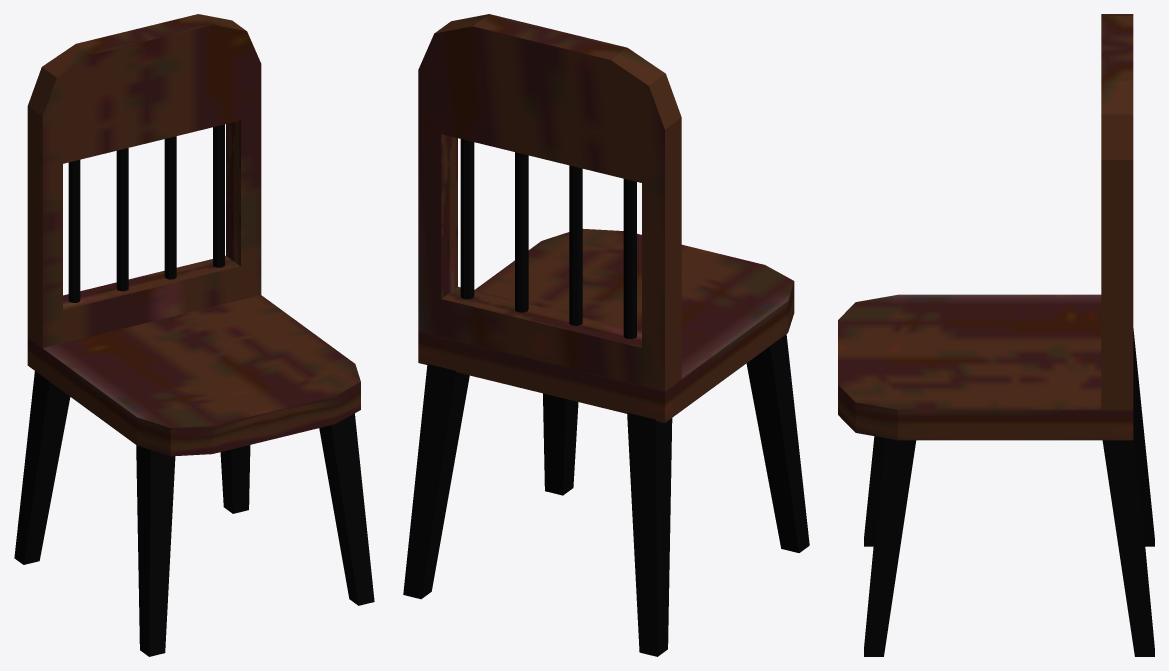
The model's file is KitchenChair.fbx.
The picture shows the model from 3 angles, left to right: view 1: azimuth 30°, elevation 25°; view 2: azimuth 150°, elevation 25°; view 3: azimuth 270°, elevation 25°; orthographic projection. The views are drawn at different scales.
Visible parts, largest first — view 1: KitchenChair; view 2: KitchenChair; view 3: KitchenChair.
Part boxes in pixels (x1,y1,x2,y2): KitchenChair: (14,14,374,656); KitchenChair: (403,14,809,656); KitchenChair: (838,14,1154,656).
Bounding box in the file's own units: 108 × 232 × 121.
